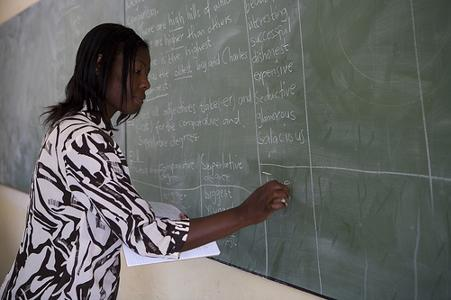person: (1, 24, 291, 300)
